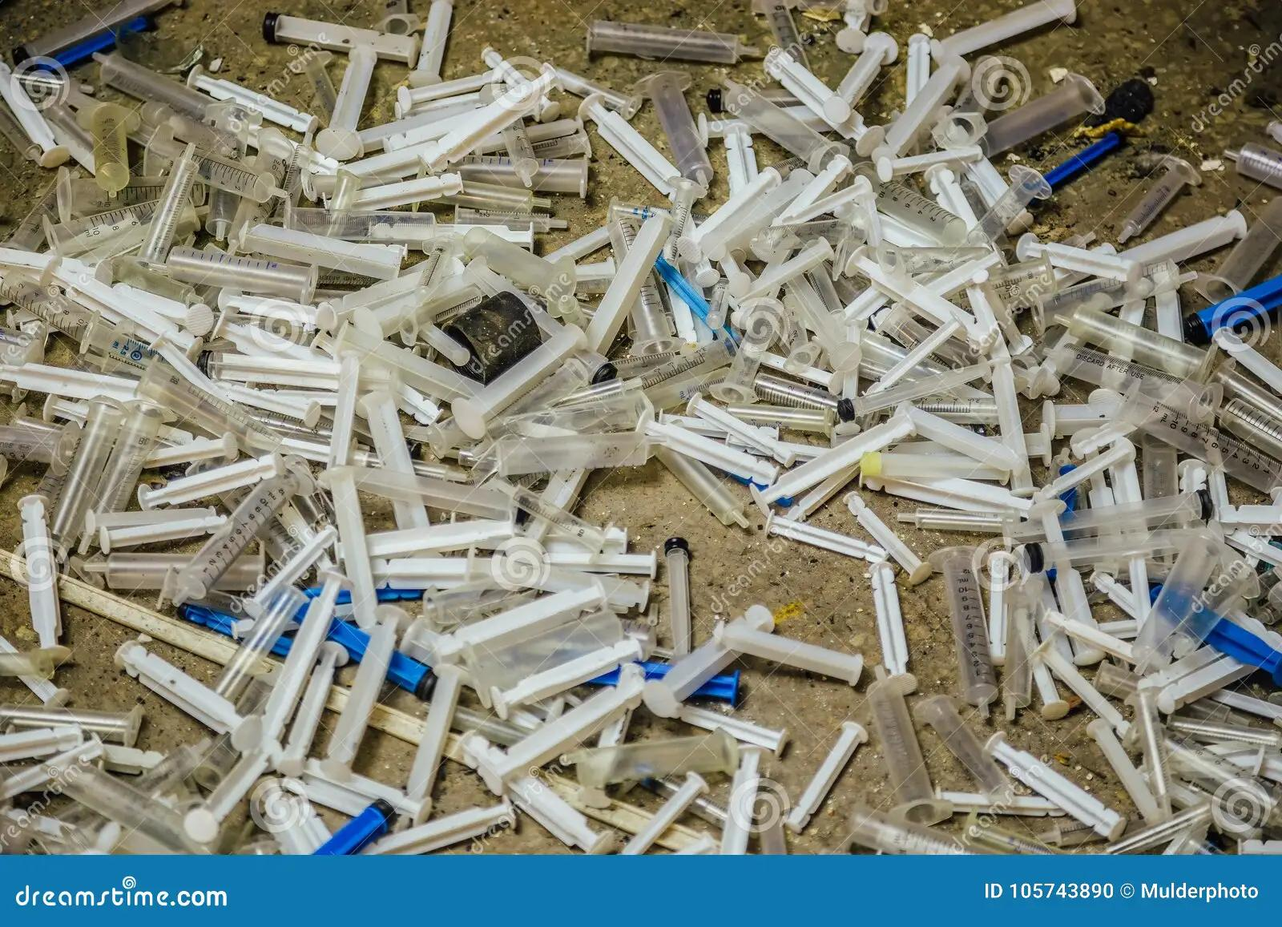Syringe: (138, 358, 280, 453), (868, 667, 951, 824), (50, 398, 123, 557), (929, 546, 997, 714), (213, 586, 308, 700), (978, 75, 1103, 158), (634, 71, 712, 189), (490, 479, 611, 553), (163, 246, 318, 302), (92, 401, 167, 512), (93, 54, 213, 122), (586, 19, 759, 63), (138, 143, 197, 264), (1118, 155, 1199, 243), (846, 805, 967, 854), (78, 103, 139, 195), (71, 553, 190, 590), (1225, 143, 1281, 187)
